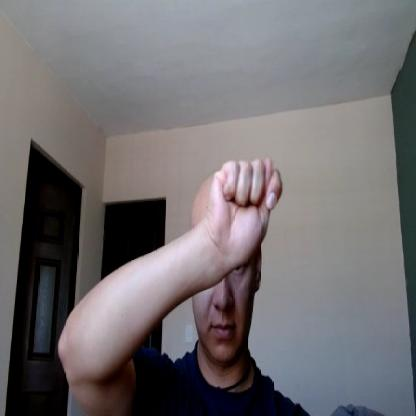T: (206, 156, 284, 264)
